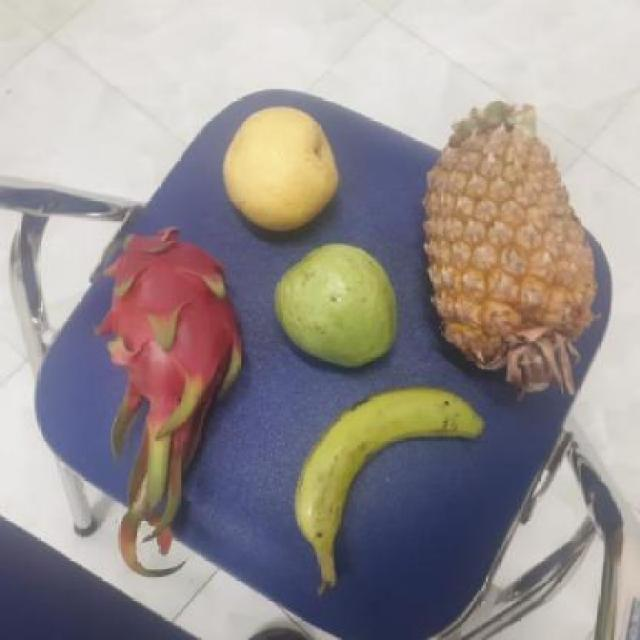banana: (285, 394, 483, 554)
dragon fruit: (97, 231, 241, 437)
guava: (270, 246, 398, 363)
pear: (220, 105, 342, 233)
pineapple: (426, 113, 597, 389)
